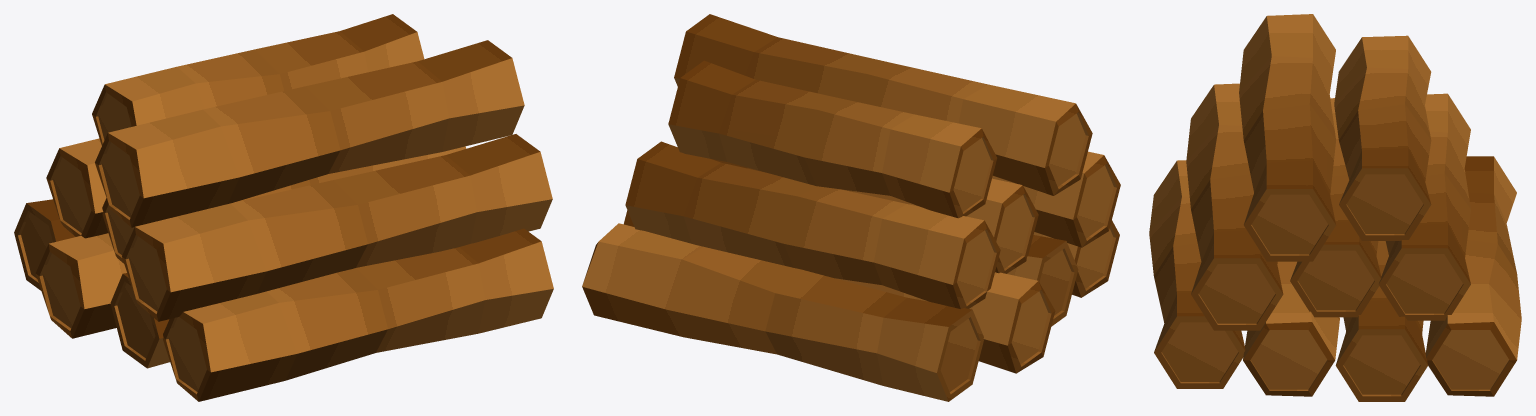
Rendered from Tree_Logs_Variant2.fbx.
3 views of the same model, side by side, from view 1: azimuth 30°, elevation 25°; view 2: azimuth 150°, elevation 25°; view 3: azimuth 270°, elevation 25° (orthographic). The views are drawn at different scales.
Visible parts, largest first — view 1: Tree_Logs_Variant2; view 2: Tree_Logs_Variant2; view 3: Tree_Logs_Variant2.
Part boxes in pixels (bbox=[...]): Tree_Logs_Variant2: bbox=[14, 14, 553, 401]; Tree_Logs_Variant2: bbox=[582, 14, 1120, 401]; Tree_Logs_Variant2: bbox=[1149, 14, 1521, 401].
Size of the model in its own units: 201 by 106 by 171.
